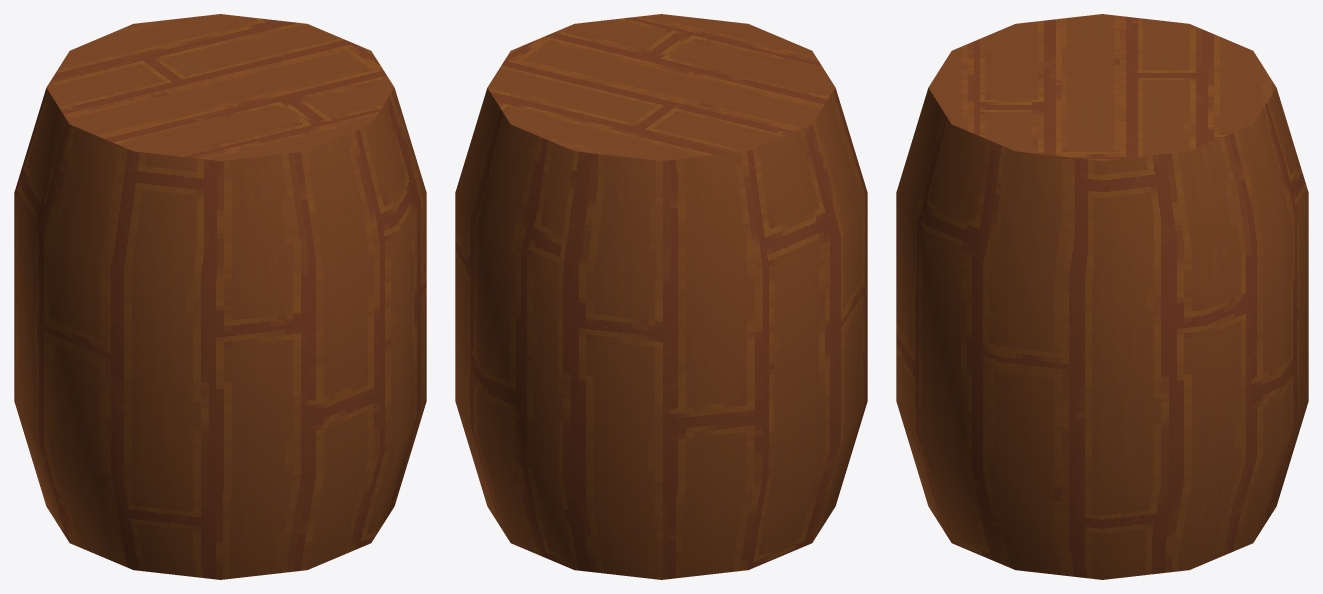
File: BarrelBase.fbx
3 views of the same model, side by side, from view 1: azimuth 30°, elevation 25°; view 2: azimuth 150°, elevation 25°; view 3: azimuth 270°, elevation 25° (orthographic).
Parts seen in each view (by area): view 1: BarrelBase; view 2: BarrelBase; view 3: BarrelBase.
Boxes of the visible parts, left/top/right/bottom form: BarrelBase: left=14, top=14, right=426, bottom=579; BarrelBase: left=455, top=14, right=867, bottom=579; BarrelBase: left=896, top=14, right=1308, bottom=579.
Size of the model in its own units: 0.8916 by 1 by 0.8916.
